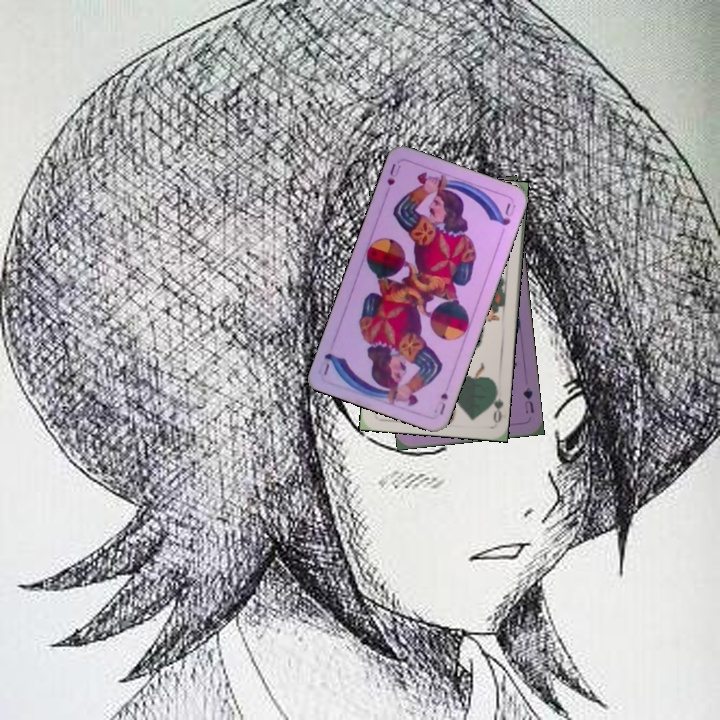GO: (485, 384, 506, 425)
GU: (519, 383, 537, 416)
SU: (383, 159, 403, 189), (435, 389, 450, 417)
